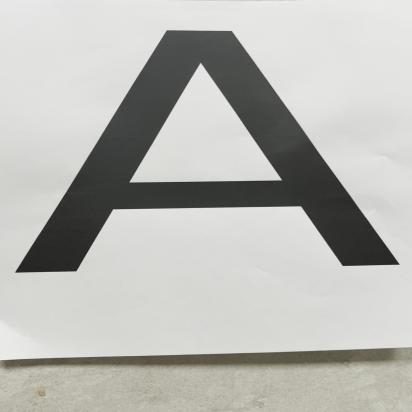seat: (22, 10, 412, 334)
